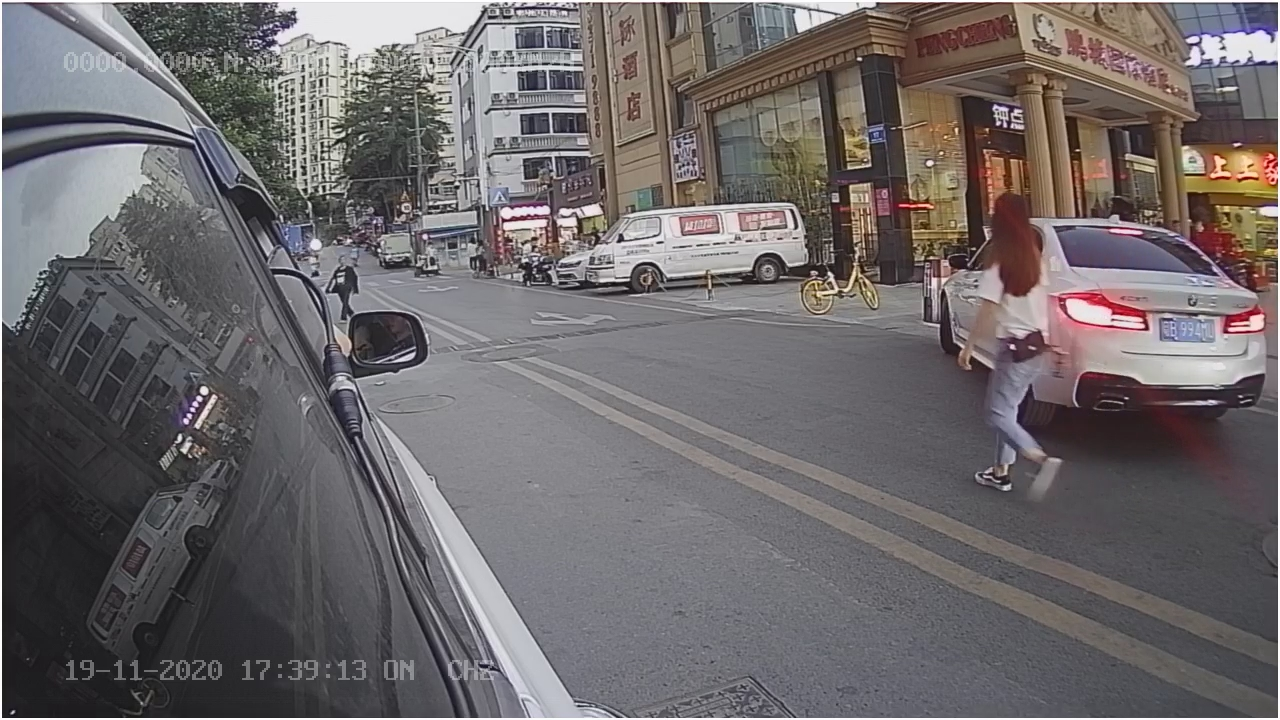person: (961, 196, 1067, 519)
